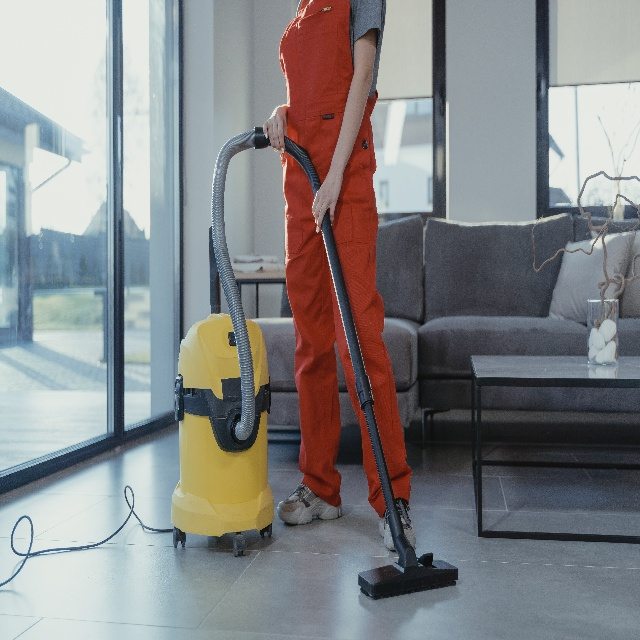Sin_guantes: (311, 169, 344, 232), (263, 103, 289, 155)
